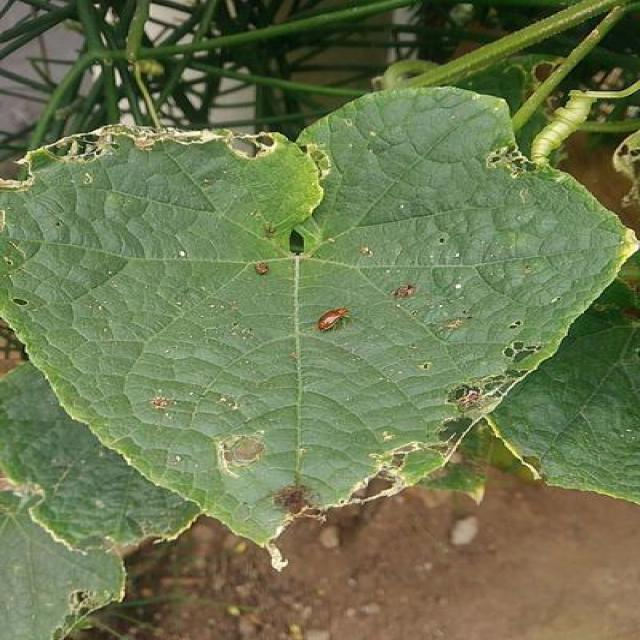Pumpkin Beetle: (331, 322, 560, 509), (0, 111, 315, 209), (286, 283, 382, 352), (201, 426, 284, 478), (487, 137, 558, 189), (137, 380, 188, 430)
